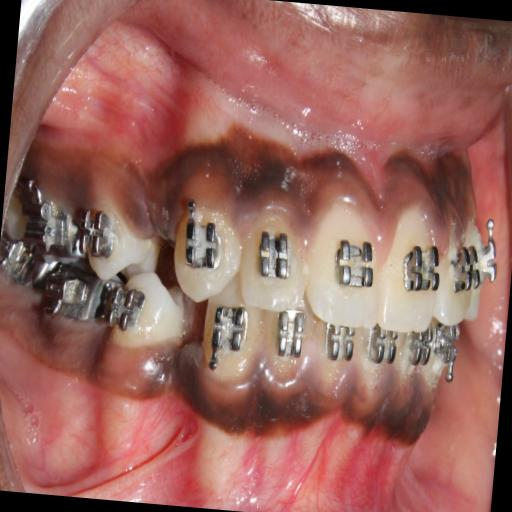correct_brace: (74, 208, 163, 286), (180, 220, 227, 277), (253, 225, 295, 287), (399, 240, 445, 294), (335, 236, 377, 287)
incorrect_brace: (238, 203, 312, 313), (75, 208, 118, 260)
